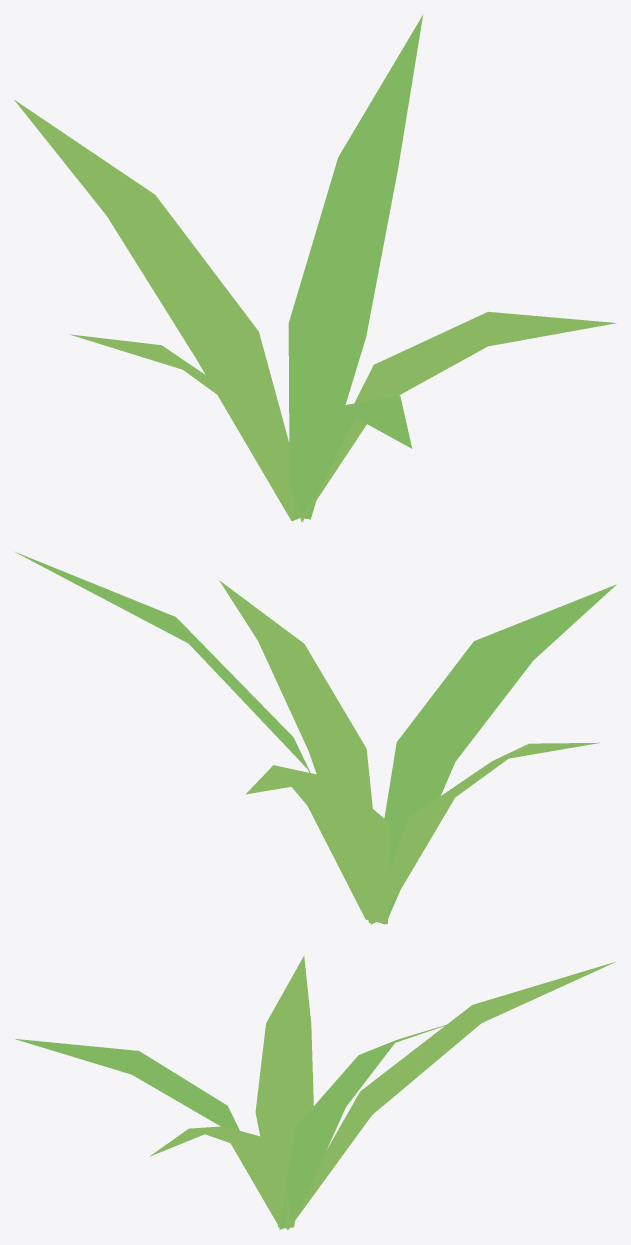
Rendered from Plant_e_TwoS_05.fbx.
3 renders of one model, top to bottom at view 1: azimuth 30°, elevation 25°; view 2: azimuth 150°, elevation 25°; view 3: azimuth 270°, elevation 25°, orthographic. The views are drawn at different scales.
Parts seen in each view (by area): view 1: Plant_e_TwoS_05; view 2: Plant_e_TwoS_05; view 3: Plant_e_TwoS_05.
Boxes of the visible parts, x1,y1,x2,y2 form: Plant_e_TwoS_05: [14, 14, 616, 522]; Plant_e_TwoS_05: [14, 551, 616, 924]; Plant_e_TwoS_05: [15, 955, 615, 1229].
Size of the model in its own units: 0.6041 by 0.4721 by 0.8629.
